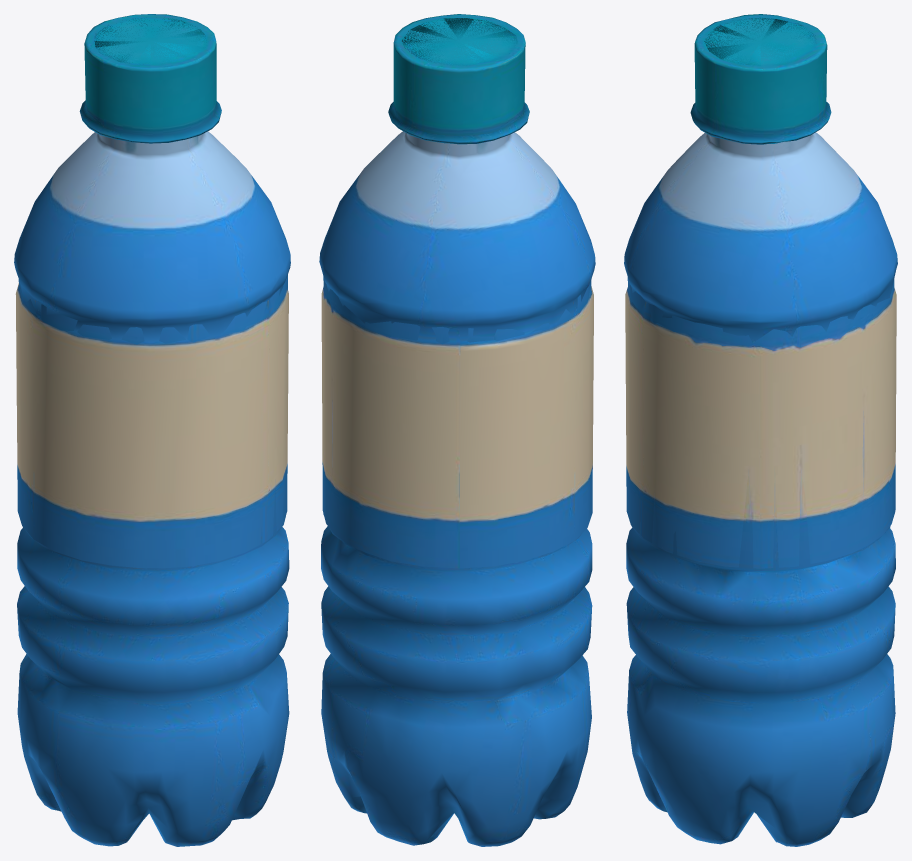
File: bottled-water.glb
3 views of the same model, side by side, from view 1: azimuth 30°, elevation 25°; view 2: azimuth 150°, elevation 25°; view 3: azimuth 270°, elevation 25° (orthographic).
Parts seen in each view (by area): view 1: bottled-water; view 2: bottled-water; view 3: bottled-water.
Boxes of the visible parts, x1,y1,x2,y2 form: bottled-water: (14, 14, 290, 846); bottled-water: (319, 14, 595, 846); bottled-water: (624, 14, 897, 846).
Size of the model in its own units: 0.079 by 0.24 by 0.078.
Materials: 1 (1 with a texture image).
